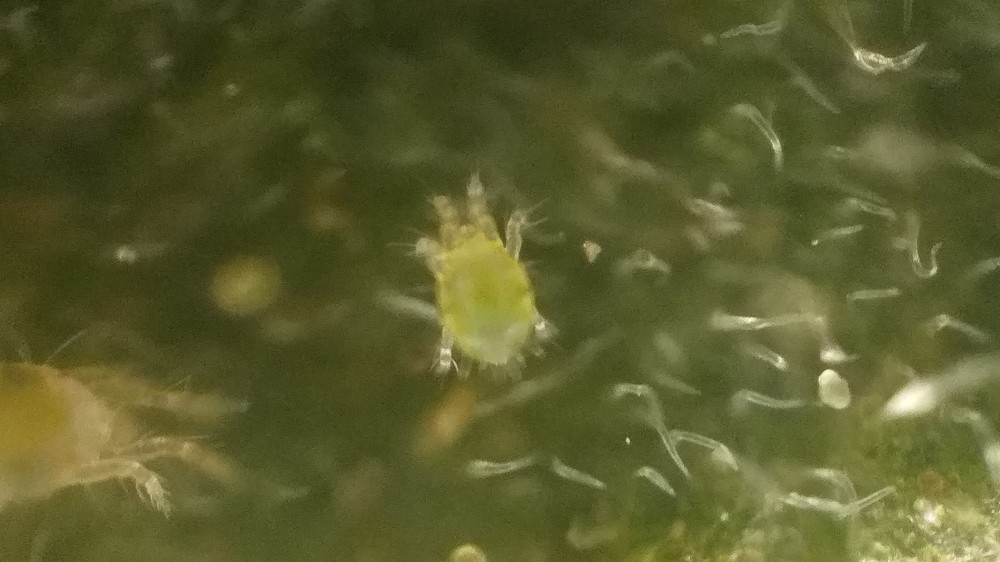Aracnido Rojo: (1, 315, 286, 533), (393, 170, 572, 393)
